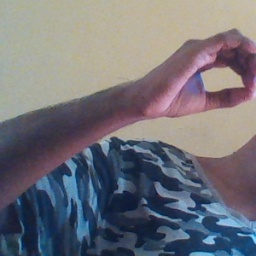O: (140, 26, 256, 120)
